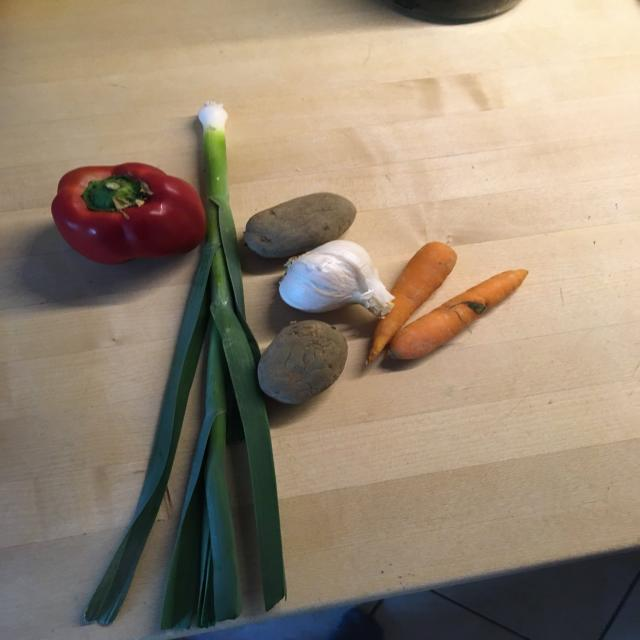Carrot: (384, 261, 534, 363), (353, 238, 461, 364)
Potato: (250, 316, 353, 412), (241, 189, 365, 267)
